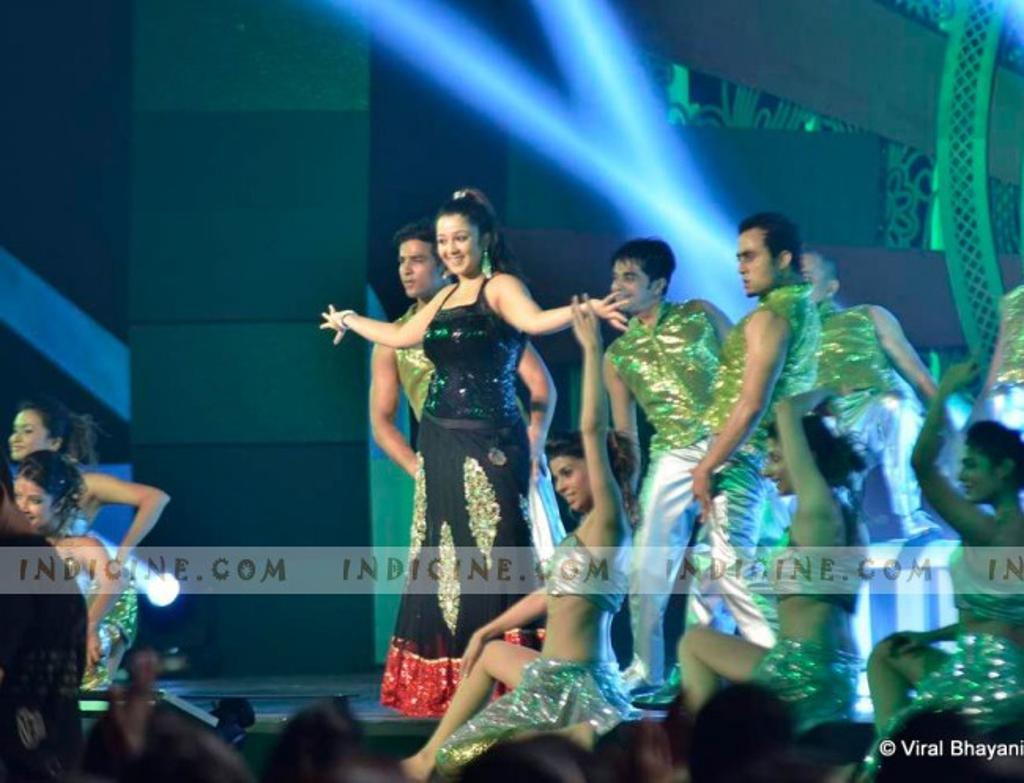face: (436, 216, 481, 274), (762, 437, 808, 493), (955, 444, 997, 501), (736, 234, 775, 295), (12, 479, 53, 529), (612, 260, 650, 309), (795, 250, 828, 305), (8, 413, 46, 460), (551, 459, 586, 510), (398, 245, 432, 296)
